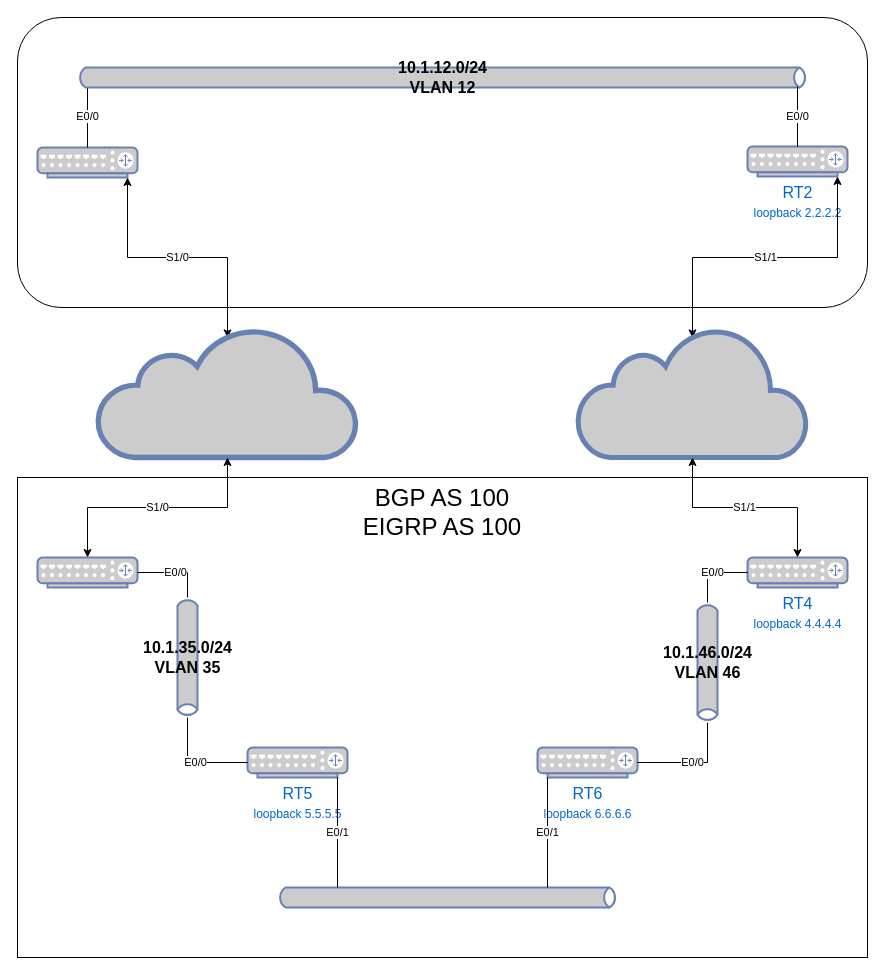
The diagram is 885 pixels wide and 975 high, and some of its shapes have lost their labels. Here are the shapes that lost their labels. From the top down, the box of each, then its label:
(36, 146, 138, 178): RT1 loopback 1.1.1.1
(16, 16, 868, 308): BGP AS 200 OSPF Area 0
(36, 556, 138, 588): RT3 loopback 3.3.3.3
(276, 886, 618, 908): 10.1.56.0/24 VLAN 56
